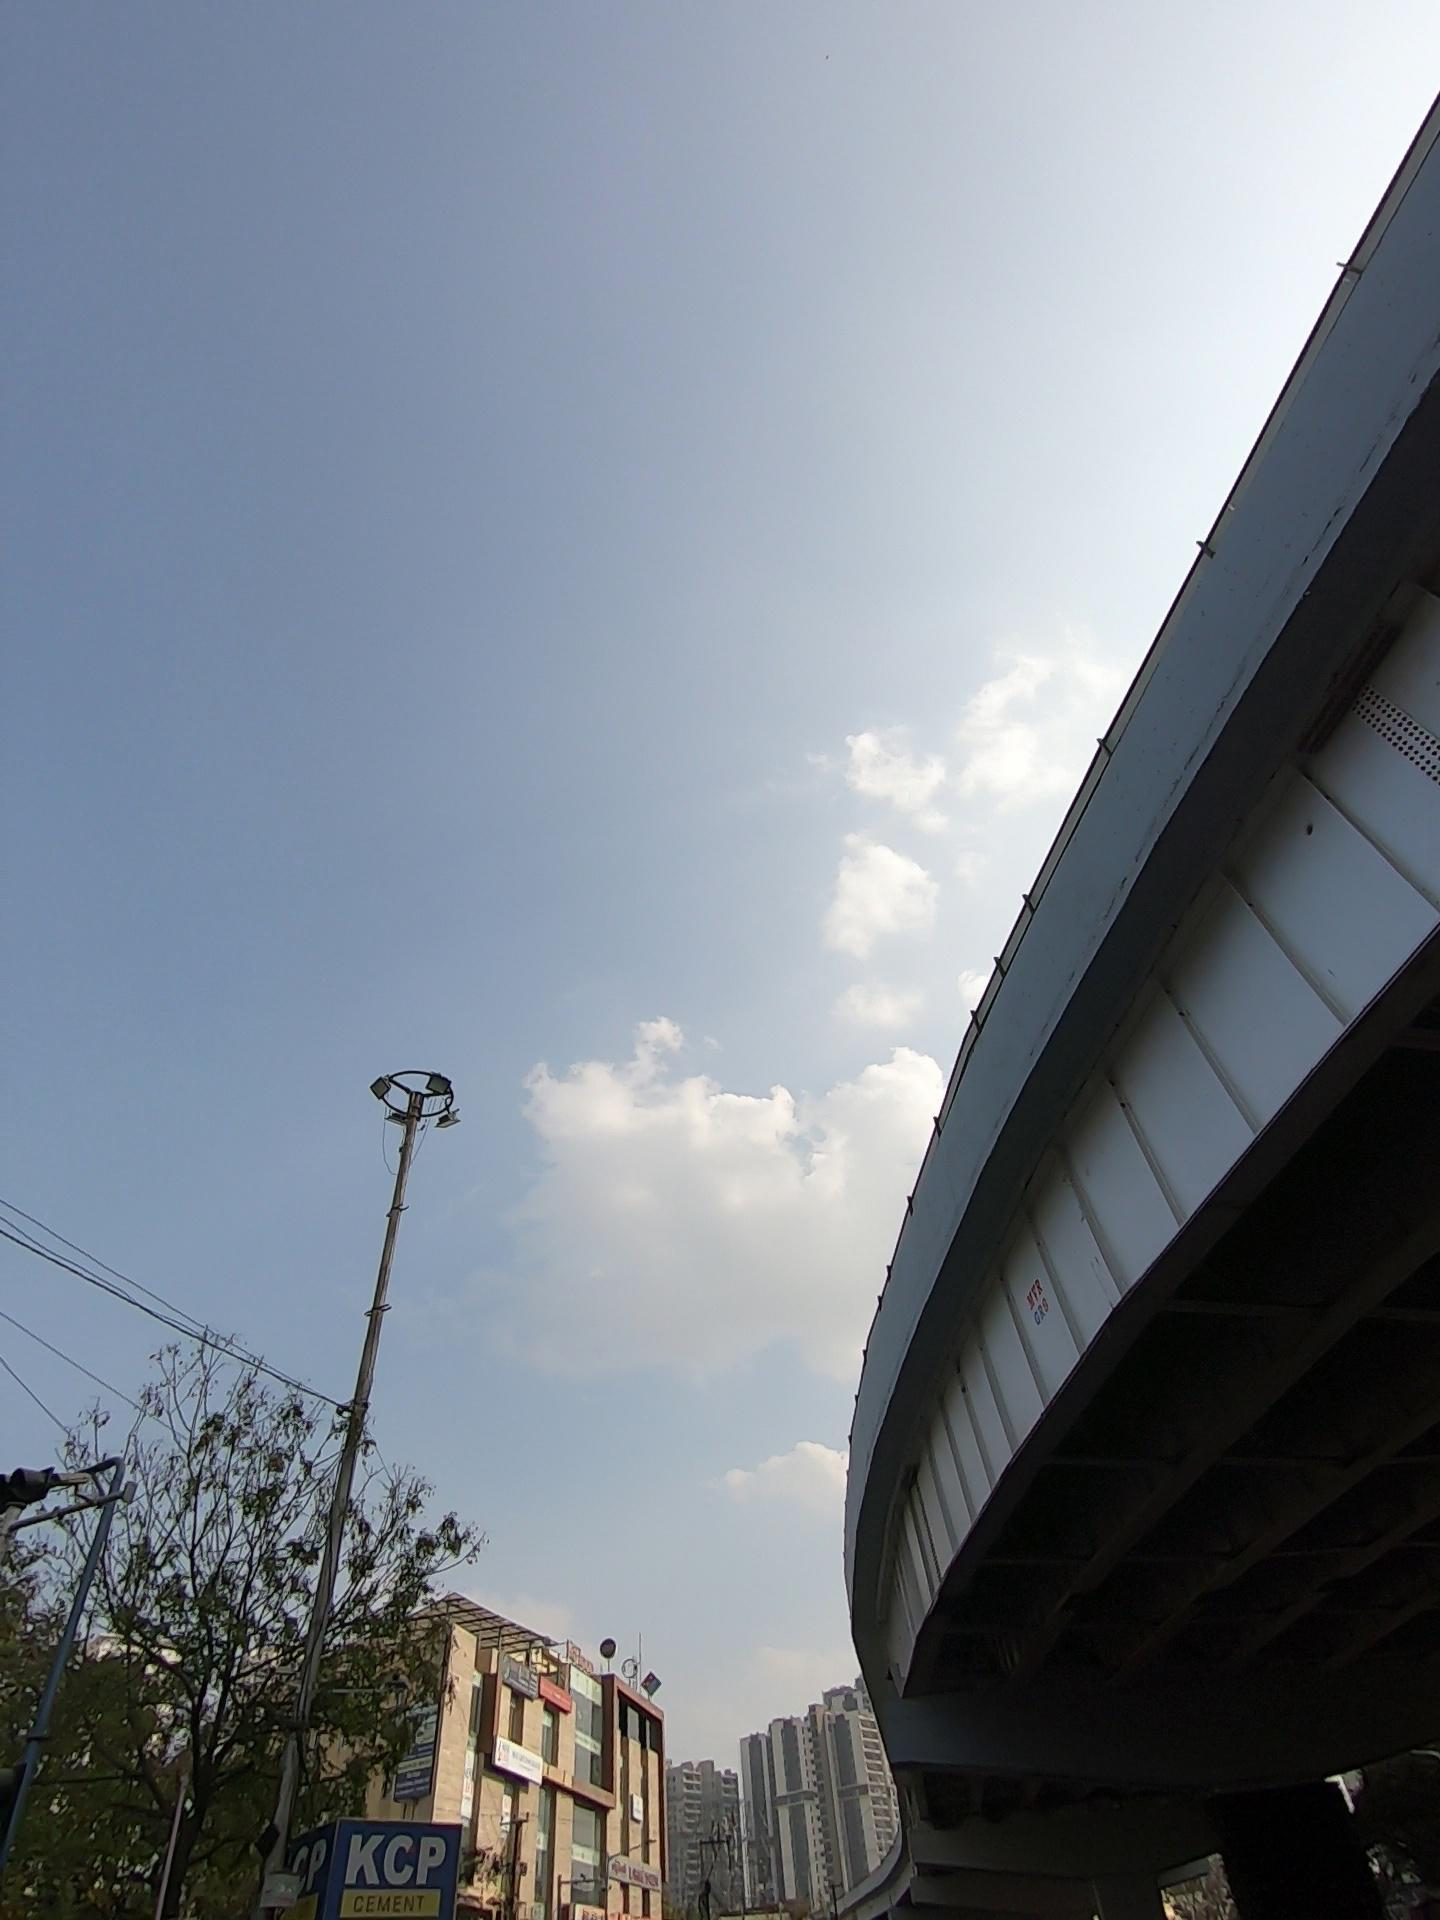off: (299, 971, 555, 1203)
